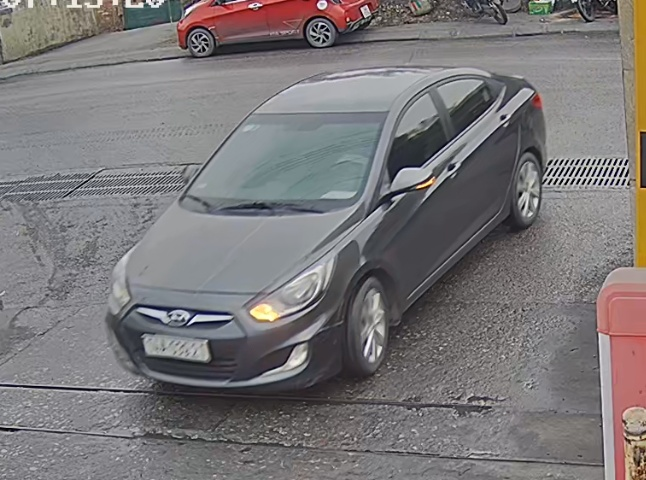vehicle plate: (136, 327, 215, 364)
